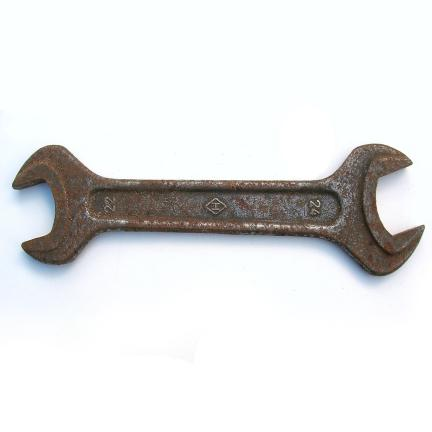karat: (13, 144, 424, 276)
